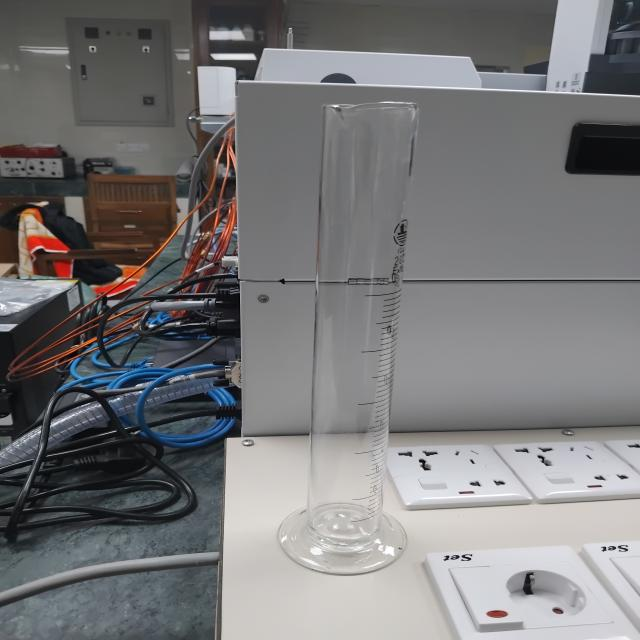Measuring_Cylinder: (259, 66, 432, 585)
